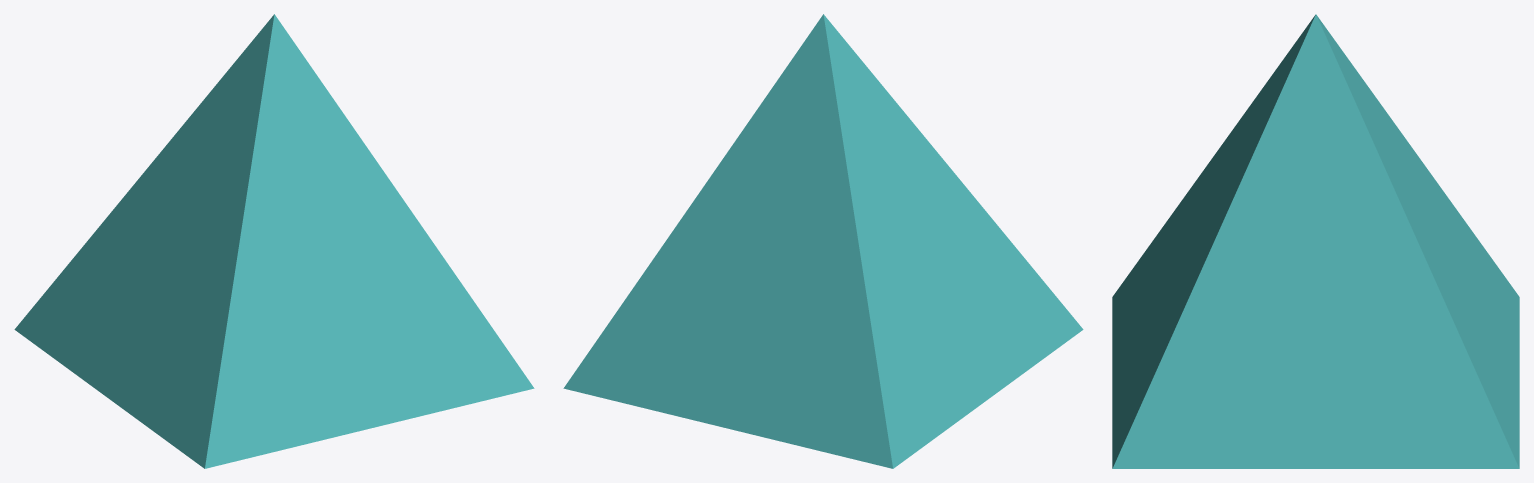
The model's file is triangular1.fbx.
The picture shows the model from 3 angles, left to right: view 1: azimuth 30°, elevation 25°; view 2: azimuth 150°, elevation 25°; view 3: azimuth 270°, elevation 25°; orthographic projection. The views are drawn at different scales.
Parts seen in each view (by area): view 1: pCube3; view 2: pCube3; view 3: pCube3.
Boxes of the visible parts, x1=… form: pCube3: x1=14, y1=14, x2=534, y2=468; pCube3: x1=563, y1=14, x2=1083, y2=468; pCube3: x1=1112, y1=14, x2=1519, y2=468.
Bounding box in the file's own units: 1.5 × 1.5 × 1.5.
